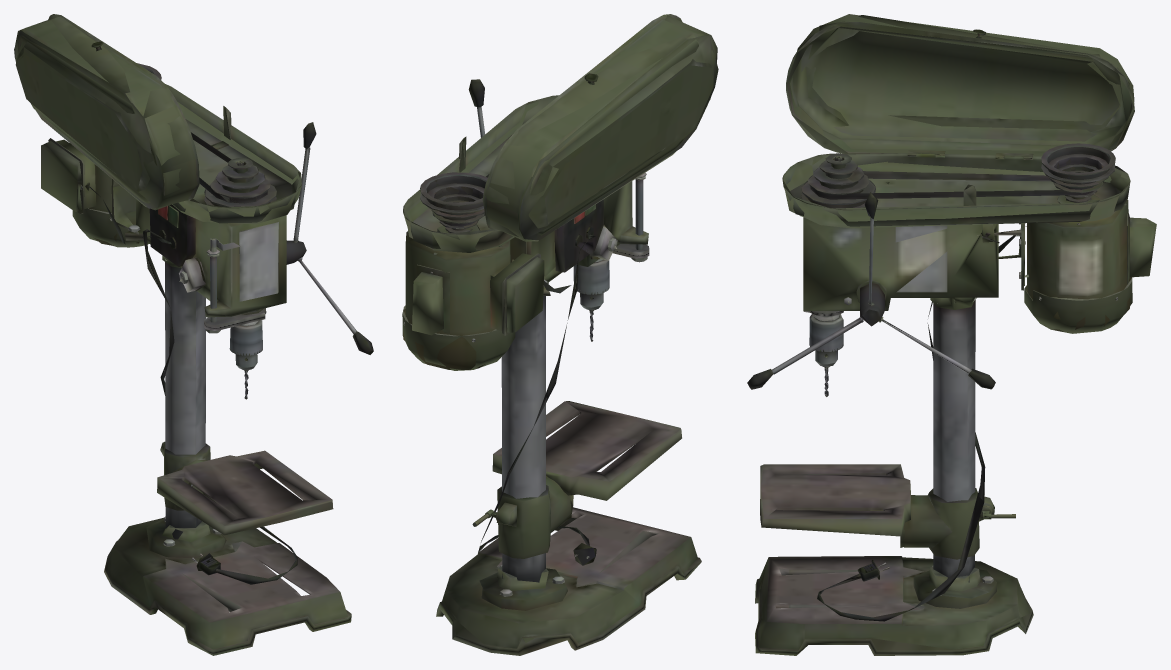
File: drill_press.glb
3 views of the same model, side by side, from view 1: azimuth 30°, elevation 25°; view 2: azimuth 150°, elevation 25°; view 3: azimuth 270°, elevation 25° (orthographic). The views are drawn at different scales.
Visible parts, largest first — view 1: drill_press_01, drill_press_01_lid, drill_press_01_plate, drill_press_01_gear_b, drill_press_01_handle, drill_press_01_plug, drill_press_01_limiter, drill_press_01_bit, drill_press_01_belt; view 2: drill_press_01, drill_press_01_lid, drill_press_01_plate, drill_press_01_gear_a, drill_press_01_bit, drill_press_01_plug, drill_press_01_limiter, drill_press_01_handle; view 3: drill_press_01, drill_press_01_lid, drill_press_01_plate, drill_press_01_gear_a, drill_press_01_handle, drill_press_01_belt, drill_press_01_gear_b, drill_press_01_plug, drill_press_01_bit.
Part boxes in pixels (x1,y1,x2,y2): drill_press_01: [41, 84, 351, 655]; drill_press_01_lid: [14, 14, 199, 210]; drill_press_01_plate: [157, 441, 333, 535]; drill_press_01_gear_b: [204, 158, 276, 207]; drill_press_01_handle: [286, 122, 373, 354]; drill_press_01_plug: [143, 229, 297, 584]; drill_press_01_limiter: [204, 238, 266, 333]; drill_press_01_bit: [229, 320, 262, 399]; drill_press_01_belt: [191, 132, 267, 203]; drill_press_01: [402, 95, 701, 655]; drill_press_01_lid: [482, 14, 718, 241]; drill_press_01_plate: [492, 401, 681, 558]; drill_press_01_gear_a: [420, 172, 487, 232]; drill_press_01_bit: [573, 259, 609, 341]; drill_press_01_plug: [478, 234, 596, 565]; drill_press_01_limiter: [612, 173, 649, 262]; drill_press_01_handle: [468, 79, 485, 137]; drill_press_01: [755, 153, 1156, 655]; drill_press_01_lid: [786, 14, 1134, 159]; drill_press_01_plate: [760, 464, 994, 559]; drill_press_01_gear_a: [1041, 143, 1115, 202]; drill_press_01_handle: [747, 192, 995, 389]; drill_press_01_belt: [810, 171, 1093, 199]; drill_press_01_gear_b: [801, 153, 875, 208]; drill_press_01_plug: [817, 302, 985, 621]; drill_press_01_bit: [809, 313, 843, 396].
Bounding box in the file's own units: 0.3528 × 0.9011 × 0.5982.
1 material, 1 textured.
